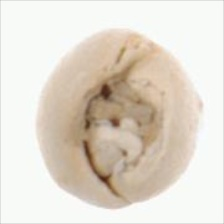L3: (77, 68, 154, 195)
L4: (36, 26, 200, 209)
